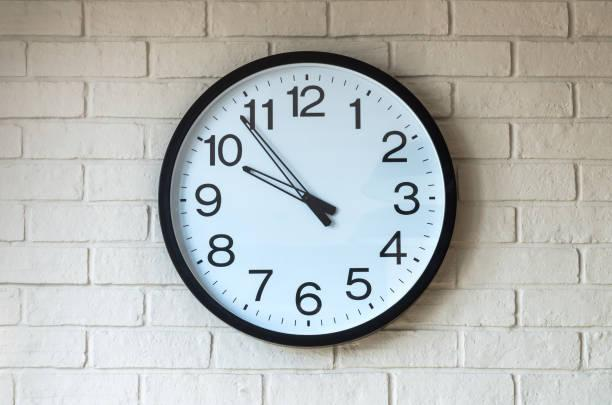clock: (156, 48, 468, 348)
